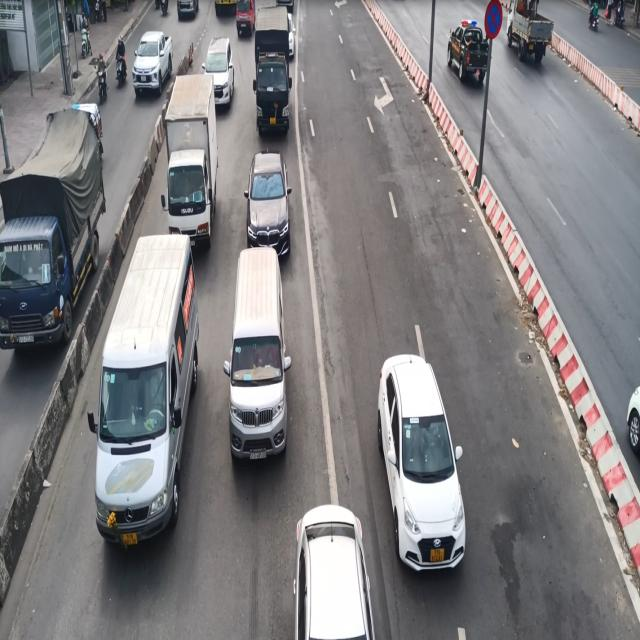car: (93, 228, 201, 553), (371, 354, 474, 580), (227, 245, 290, 475), (246, 150, 291, 257), (132, 24, 174, 93)
motor: (111, 36, 131, 90), (96, 48, 113, 104)
truck: (0, 104, 107, 350), (159, 76, 220, 246), (247, 6, 296, 135)
